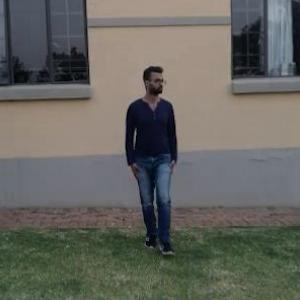follow: (120, 54, 188, 268)
